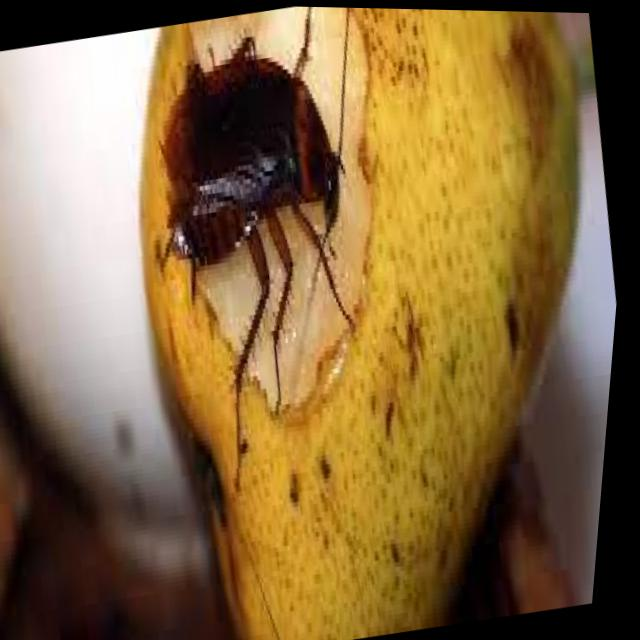Cockroach: (104, 2, 445, 499)
